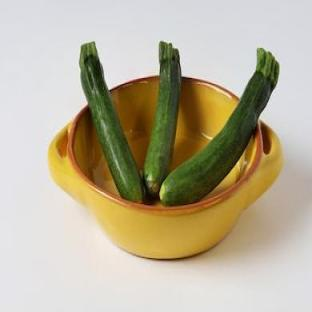Zucchini: (160, 48, 279, 205), (80, 42, 143, 202), (144, 41, 181, 196)
